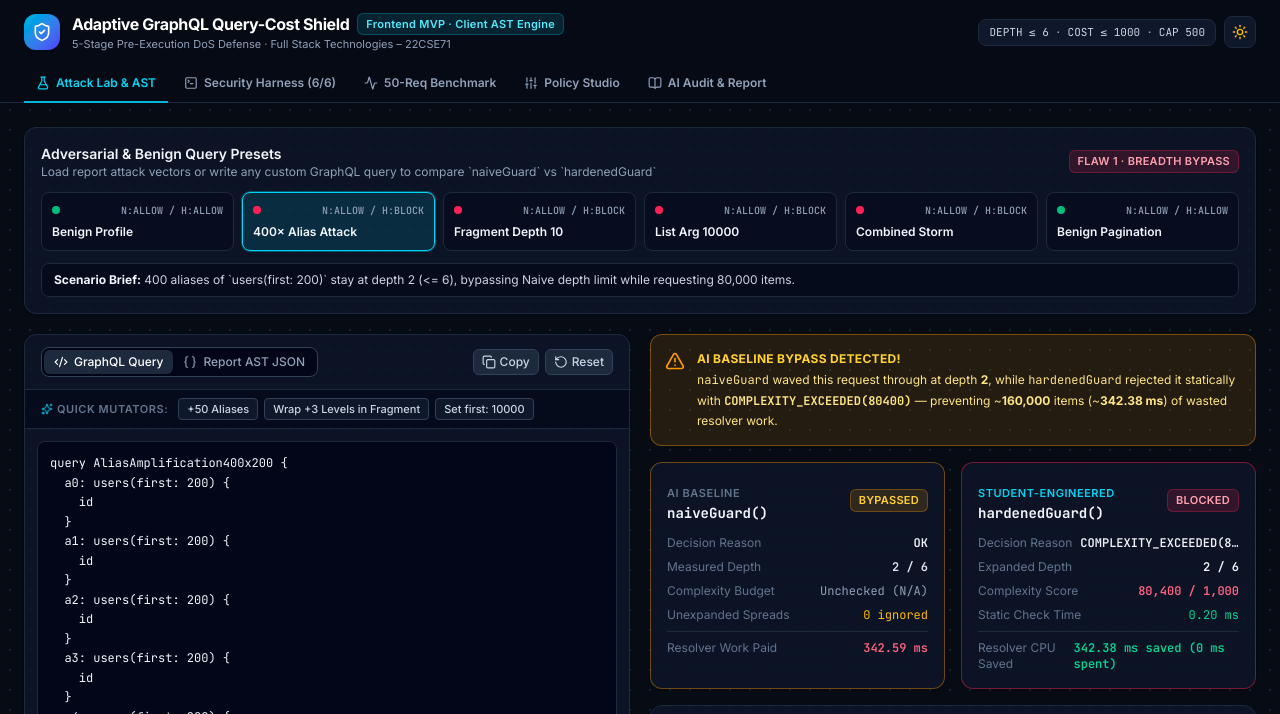
Test: Adaptive GraphQL Query-Cost Shield UI › updates policy thresholds in Policy Studio and resets to report defaults
Step 1. Click the button "Policy Studio" → (572, 84), box [512,64,632,102]
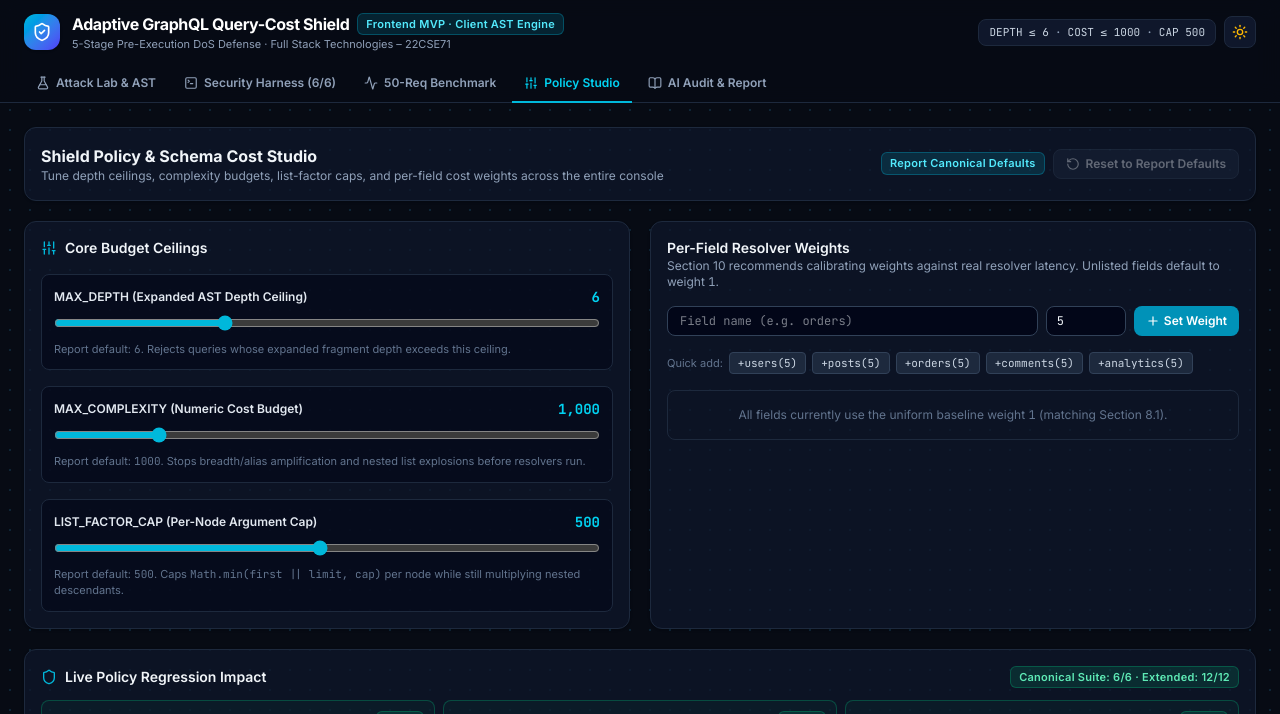
Step 2. Set the slider named "MAX_DEPTH" to "12" → (470, 322), box [54,314,600,330]
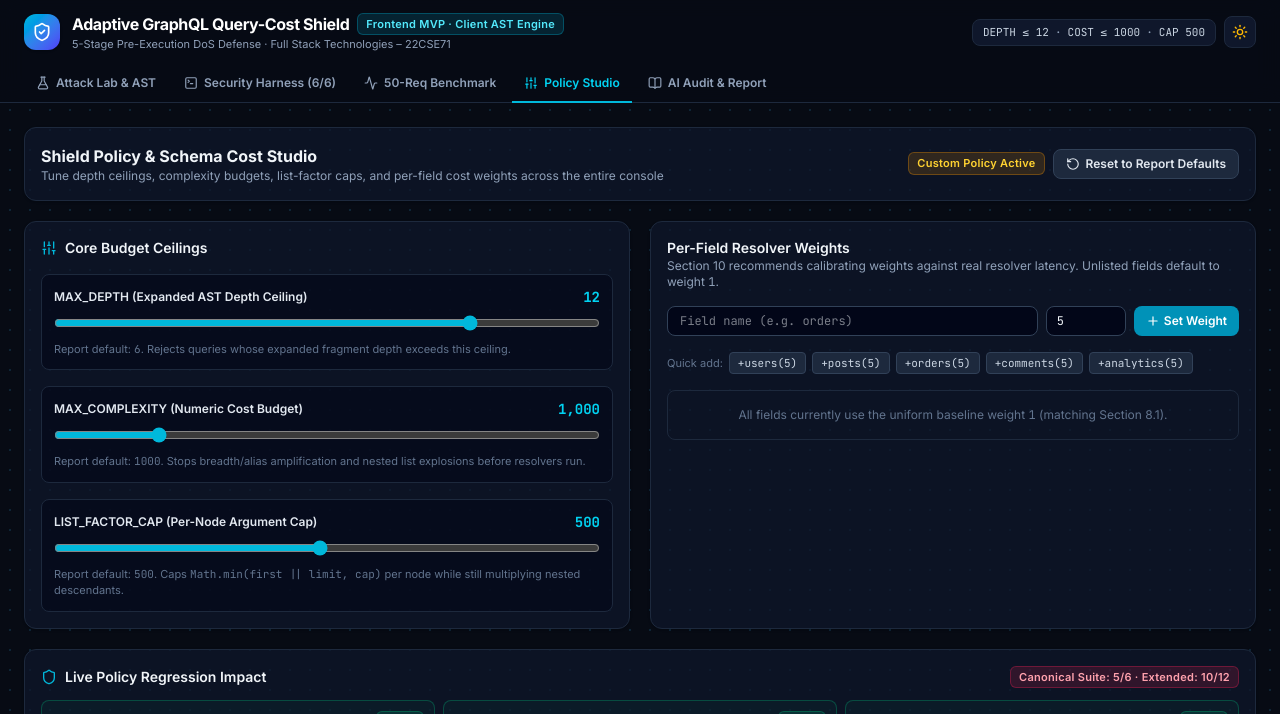
Expected: the text "DEPTH ≤ 12" is shown, [983,24,1049,40]
Expected: the text "Custom Policy Active" is shown, [908,152,1044,175]
Step 3. Click the button "Reset to Report Defaults" → (1146, 164), box [1052,148,1239,178]
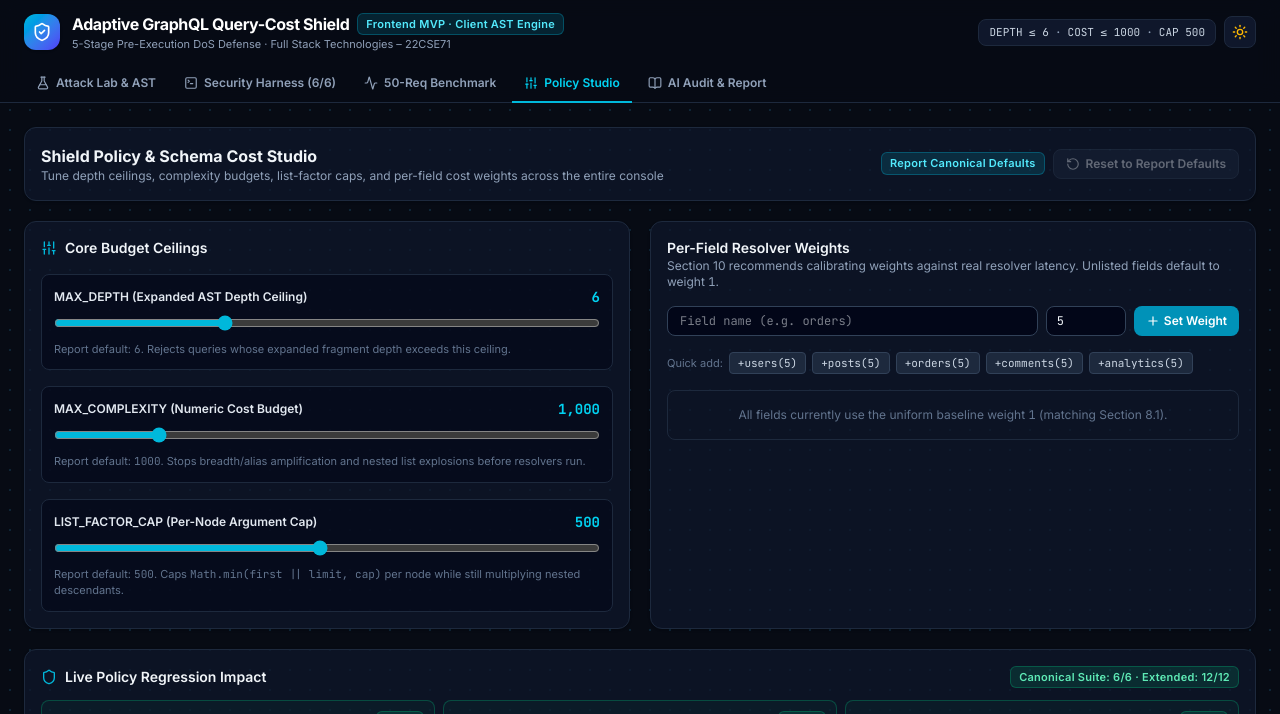
Expected: the text "DEPTH ≤ 6" is shown, [990,24,1049,40]
